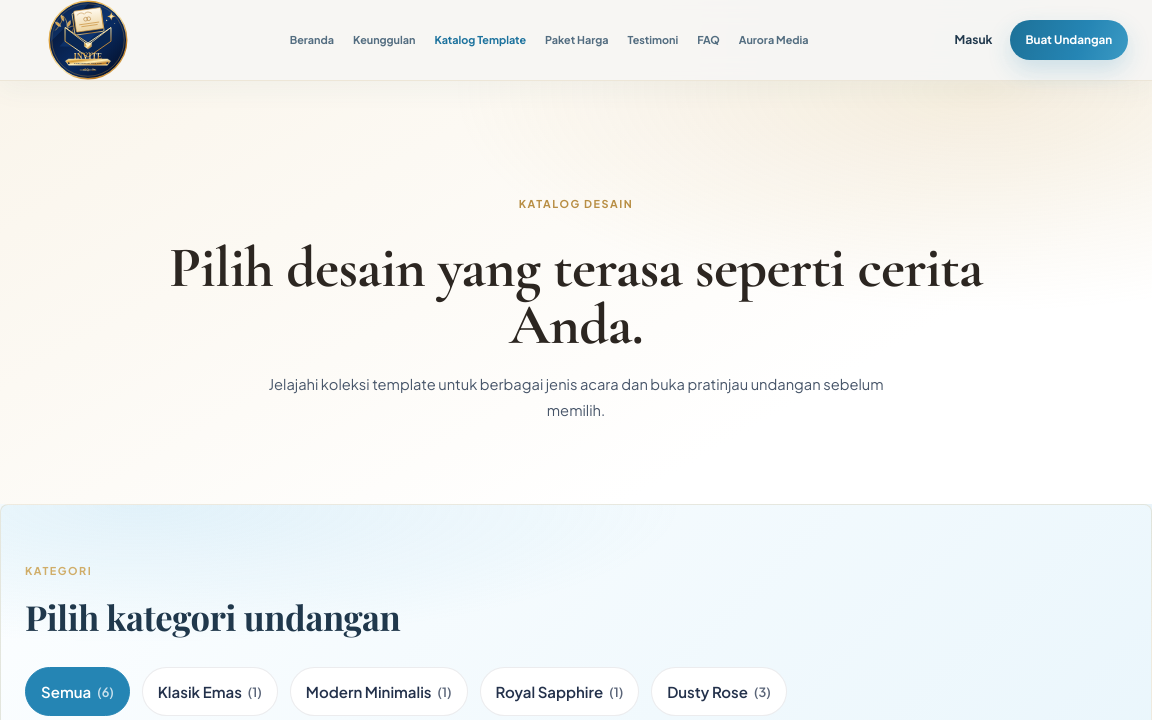
Test case: filters Nuansa Invite templates by category and can show all categories
Expected: the button "Klasik Emas (1)" is shown, [142,668,278,716]
Click the button "Dusty Rose (3)": (719, 692) [651,668,787,716]
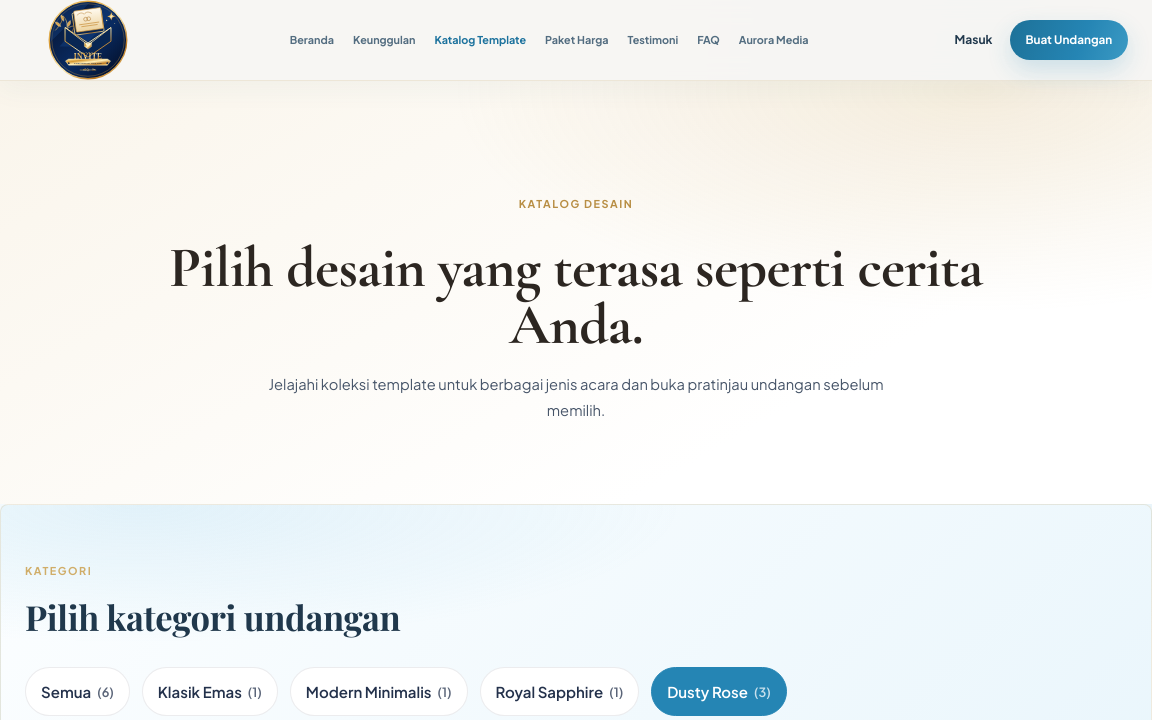
Click the button "Semua (6)": (77, 692) [25,668,130,716]
(page scrolled)
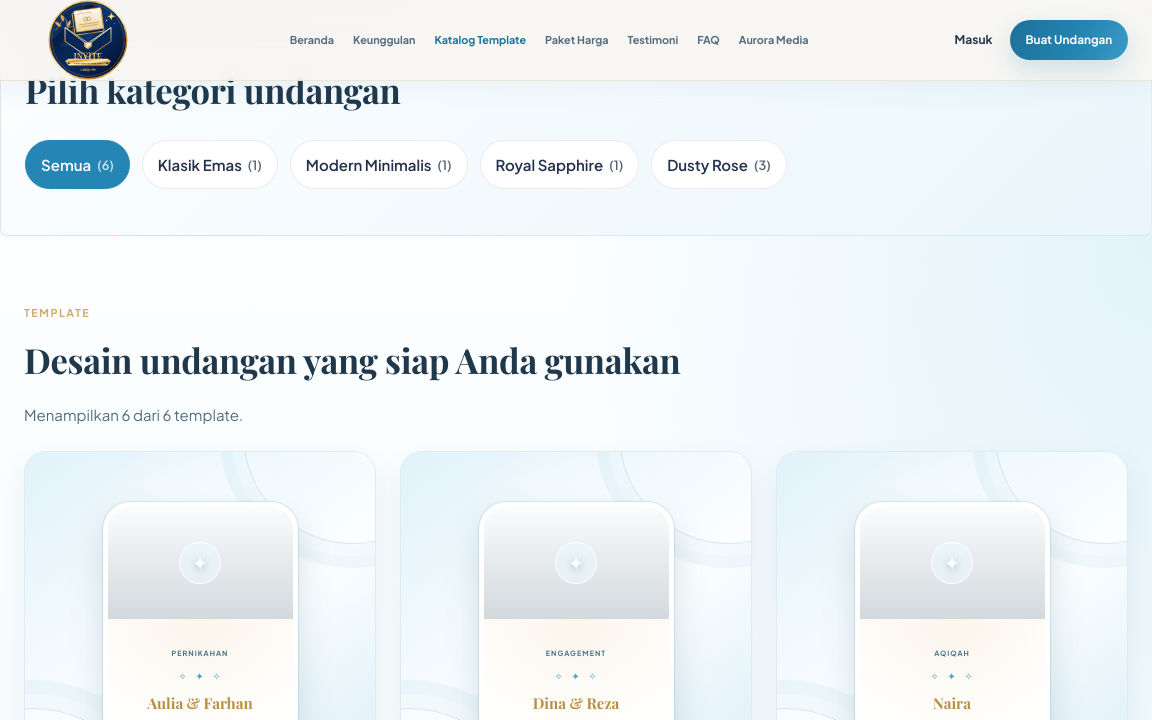
Expected: the number of elements with class "template-card" is 6
Expected: the heading "Desain undangan yang siap Anda gunakan" is shown, [24,336,680,382]
